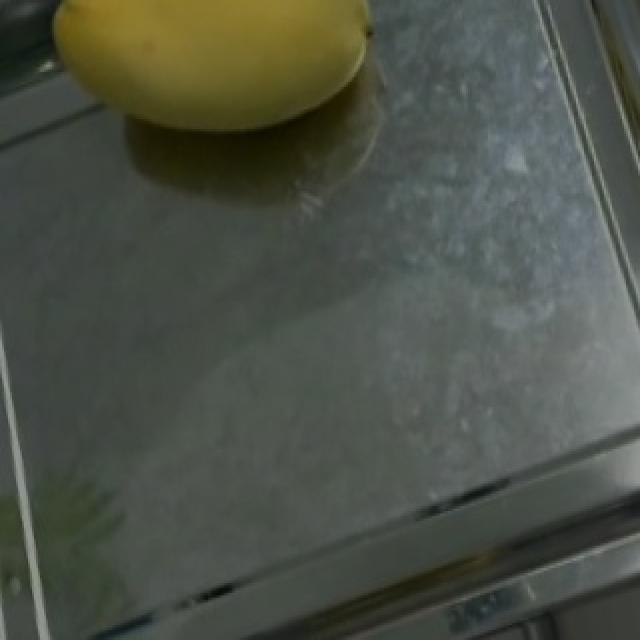fruit: (32, 0, 410, 176)
